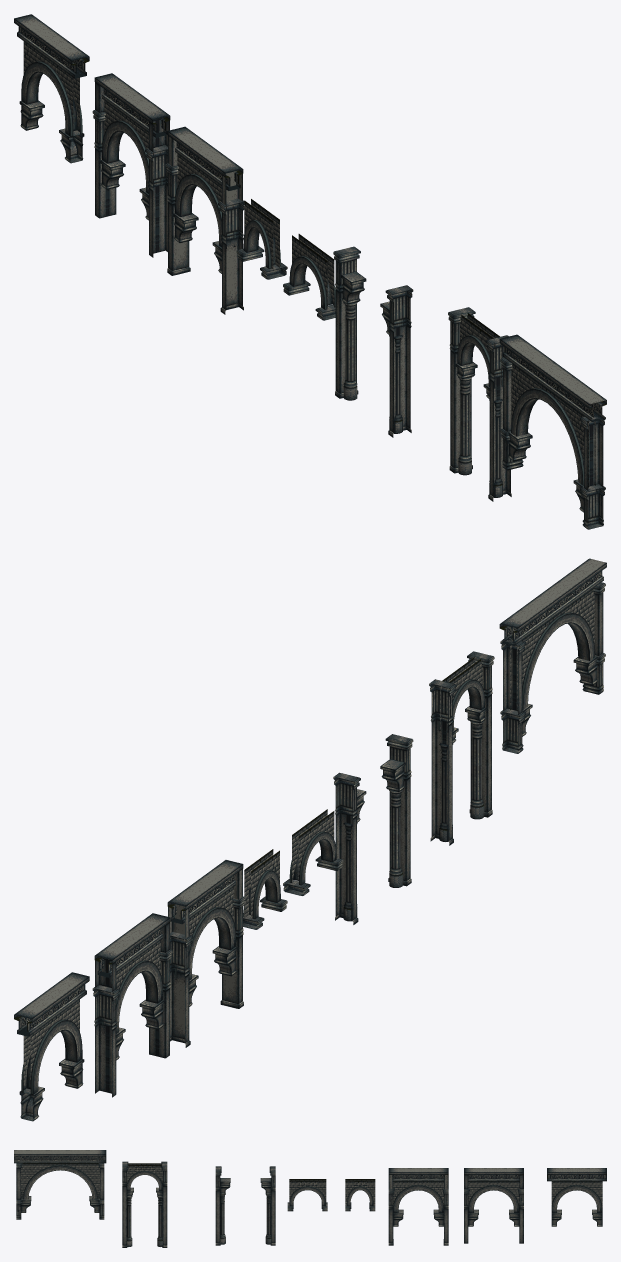
The model's file is EnvMdrMD_Daiseidou_A_Arch_A_6W.FBX.
3 views of the same model, one above another, from view 1: azimuth 30°, elevation 25°; view 2: azimuth 150°, elevation 25°; view 3: azimuth 270°, elevation 25° (orthographic). The views are drawn at different scales.
Visible parts, largest first — view 1: EnvMdrMD_Daiseidou_A_Arch_C_8W, EnvMdrMD_Daiseidou_A_Arch_B_6W, EnvMdrMD_Daiseidou_A_Arch_A_6W_Top, EnvMdrMD_Daiseidou_A_Arch_A_6W, EnvMdrMD_Daiseidou_A_Arch_D_4W, EnvMdrMD_Daiseidou_A_Arch_C_6W, EnvMdrMD_Daiseidou_A_Arch_C_4W, EnvMdrMD_Daiseidou_A_Arch_C_3W; view 2: EnvMdrMD_Daiseidou_A_Arch_C_8W, EnvMdrMD_Daiseidou_A_Arch_A_6W_Top, EnvMdrMD_Daiseidou_A_Arch_B_6W, EnvMdrMD_Daiseidou_A_Arch_D_4W, EnvMdrMD_Daiseidou_A_Arch_A_6W, EnvMdrMD_Daiseidou_A_Arch_C_6W, EnvMdrMD_Daiseidou_A_Arch_C_4W, EnvMdrMD_Daiseidou_A_Arch_C_3W; view 3: EnvMdrMD_Daiseidou_A_Arch_C_8W, EnvMdrMD_Daiseidou_A_Arch_B_6W, EnvMdrMD_Daiseidou_A_Arch_A_6W_Top, EnvMdrMD_Daiseidou_A_Arch_D_4W, EnvMdrMD_Daiseidou_A_Arch_C_6W, EnvMdrMD_Daiseidou_A_Arch_A_6W, EnvMdrMD_Daiseidou_A_Arch_C_4W, EnvMdrMD_Daiseidou_A_Arch_C_3W.
Boxes of the visible parts, x1,y1,x2,y2 form: EnvMdrMD_Daiseidou_A_Arch_C_8W: (499,334,606,529); EnvMdrMD_Daiseidou_A_Arch_B_6W: (165,126,244,314); EnvMdrMD_Daiseidou_A_Arch_A_6W_Top: (92,73,170,257); EnvMdrMD_Daiseidou_A_Arch_A_6W: (333,246,413,437); EnvMdrMD_Daiseidou_A_Arch_D_4W: (448,307,511,501); EnvMdrMD_Daiseidou_A_Arch_C_6W: (14,14,89,163); EnvMdrMD_Daiseidou_A_Arch_C_4W: (283,234,335,320); EnvMdrMD_Daiseidou_A_Arch_C_3W: (236,199,287,279); EnvMdrMD_Daiseidou_A_Arch_C_8W: (499,558,606,753); EnvMdrMD_Daiseidou_A_Arch_A_6W_Top: (92,913,172,1097); EnvMdrMD_Daiseidou_A_Arch_B_6W: (167,860,245,1047); EnvMdrMD_Daiseidou_A_Arch_D_4W: (429,651,494,845); EnvMdrMD_Daiseidou_A_Arch_A_6W: (333,734,413,924); EnvMdrMD_Daiseidou_A_Arch_C_6W: (14,972,89,1121); EnvMdrMD_Daiseidou_A_Arch_C_4W: (283,809,343,895); EnvMdrMD_Daiseidou_A_Arch_C_3W: (243,849,287,929); EnvMdrMD_Daiseidou_A_Arch_C_8W: (14,1150,106,1219); EnvMdrMD_Daiseidou_A_Arch_B_6W: (388,1168,448,1245); EnvMdrMD_Daiseidou_A_Arch_A_6W_Top: (464,1168,523,1243); EnvMdrMD_Daiseidou_A_Arch_D_4W: (122,1161,167,1247); EnvMdrMD_Daiseidou_A_Arch_C_6W: (547,1168,606,1226); EnvMdrMD_Daiseidou_A_Arch_A_6W: (215,1166,275,1245); EnvMdrMD_Daiseidou_A_Arch_C_4W: (287,1179,327,1211); EnvMdrMD_Daiseidou_A_Arch_C_3W: (345,1179,375,1211).
Size of the model in its own units: 186 by 1005 by 5933.
Materials: 1 (1 with a texture image).
